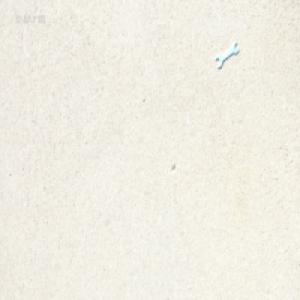Wrench: (213, 43, 237, 71)
